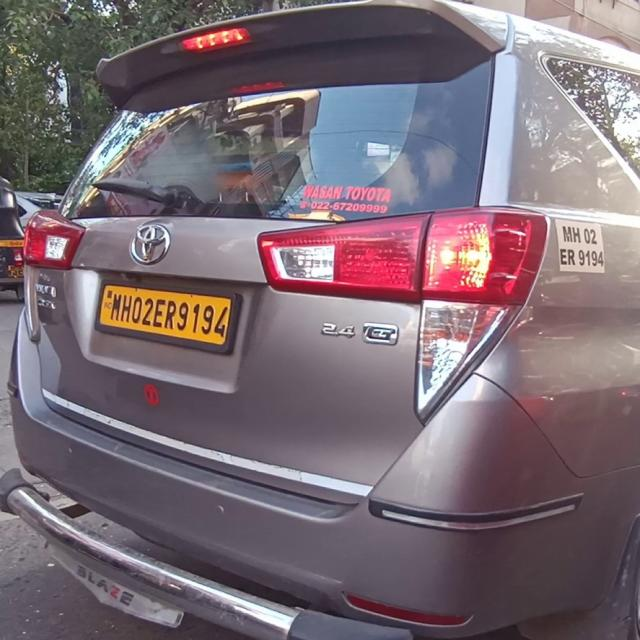Plate: (99, 281, 231, 348)
